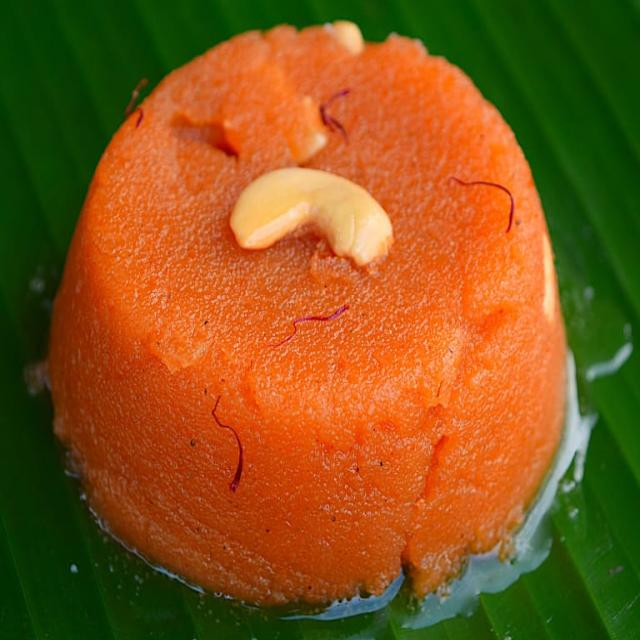kesari bath: (30, 6, 610, 640)
